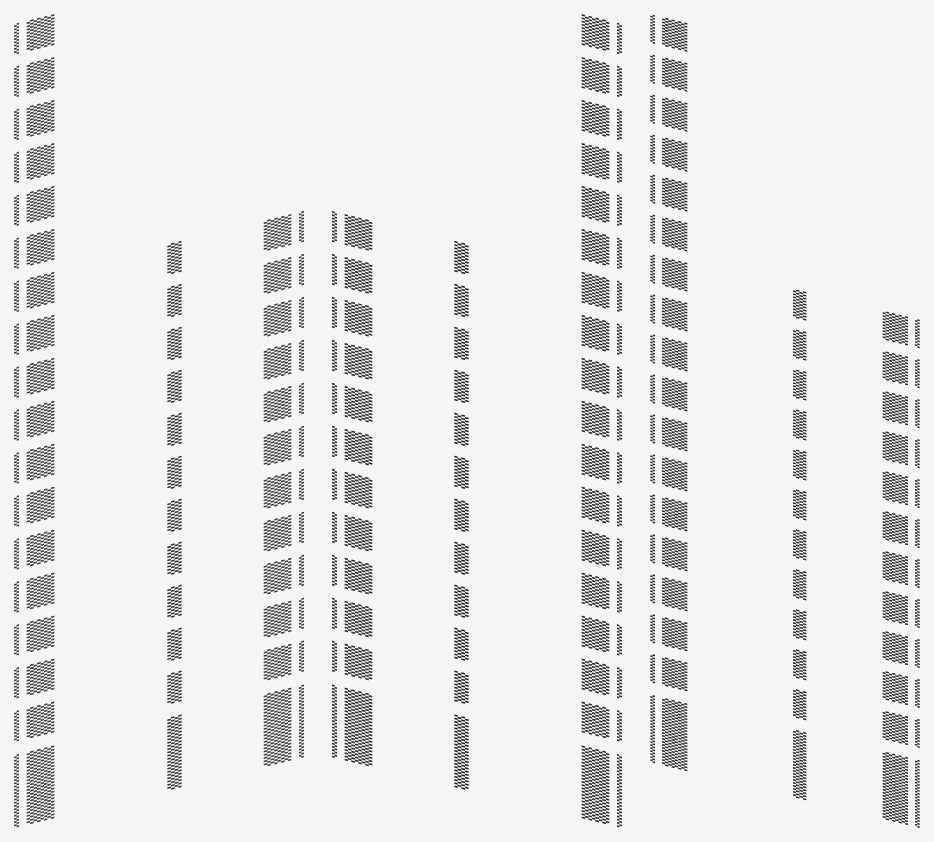
Rendered from MSH_Muro_cuadritos_Torre1.fbx.
3 renders of one model, left to right at view 1: azimuth 30°, elevation 25°; view 2: azimuth 150°, elevation 25°; view 3: azimuth 330°, elevation 25°, orthographic. The views are drawn at different scales.
Visible parts, largest first — view 1: MSH_Plano_cuadritos_Torre1.004, MSH_Plano_cuadritos_Torre1.002, MSH_Plano_cuadritos_Torre1.003, MSH_Plano_cuadritos_Torre1.001, MSH_Plano_cuadritos_Torre1.005, MSH_Plano_cuadritos_Torre1, MSH_Plano_cuadritos_Torre1.006; view 2: MSH_Plano_cuadritos_Torre1.004, MSH_Plano_cuadritos_Torre1.002, MSH_Plano_cuadritos_Torre1.003, MSH_Plano_cuadritos_Torre1.001, MSH_Plano_cuadritos_Torre1.005, MSH_Plano_cuadritos_Torre1, MSH_Plano_cuadritos_Torre1.006; view 3: MSH_Plano_cuadritos_Torre1.003, MSH_Plano_cuadritos_Torre1.004, MSH_Plano_cuadritos_Torre1.002, MSH_Plano_cuadritos_Torre1.001, MSH_Plano_cuadritos_Torre1.005, MSH_Plano_cuadritos_Torre1.006, MSH_Plano_cuadritos_Torre1.
Part boxes in pixels (x1=…): MSH_Plano_cuadritos_Torre1.004: x1=14, y1=297, x2=303, y2=483; MSH_Plano_cuadritos_Torre1.002: x1=14, y1=554, x2=303, y2=741; MSH_Plano_cuadritos_Torre1.003: x1=14, y1=426, x2=303, y2=612; MSH_Plano_cuadritos_Torre1.001: x1=14, y1=684, x2=303, y2=827; MSH_Plano_cuadritos_Torre1.005: x1=14, y1=211, x2=303, y2=354; MSH_Plano_cuadritos_Torre1: x1=14, y1=14, x2=54, y2=139; MSH_Plano_cuadritos_Torre1.006: x1=14, y1=143, x2=54, y2=268; MSH_Plano_cuadritos_Torre1.004: x1=332, y1=297, x2=621, y2=483; MSH_Plano_cuadritos_Torre1.002: x1=332, y1=554, x2=621, y2=741; MSH_Plano_cuadritos_Torre1.003: x1=332, y1=426, x2=621, y2=612; MSH_Plano_cuadritos_Torre1.001: x1=332, y1=684, x2=621, y2=827; MSH_Plano_cuadritos_Torre1.005: x1=332, y1=211, x2=621, y2=354; MSH_Plano_cuadritos_Torre1: x1=581, y1=14, x2=621, y2=139; MSH_Plano_cuadritos_Torre1.006: x1=581, y1=143, x2=621, y2=268; MSH_Plano_cuadritos_Torre1.003: x1=650, y1=454, x2=919, y2=627; MSH_Plano_cuadritos_Torre1.004: x1=650, y1=334, x2=919, y2=507; MSH_Plano_cuadritos_Torre1.002: x1=650, y1=574, x2=919, y2=747; MSH_Plano_cuadritos_Torre1.001: x1=650, y1=695, x2=919, y2=827; MSH_Plano_cuadritos_Torre1.005: x1=650, y1=254, x2=919, y2=387; MSH_Plano_cuadritos_Torre1.006: x1=650, y1=135, x2=687, y2=251; MSH_Plano_cuadritos_Torre1: x1=650, y1=15, x2=687, y2=131.
Bounding box in the file's own units: 2329 × 6177 × 4.44e-05.
